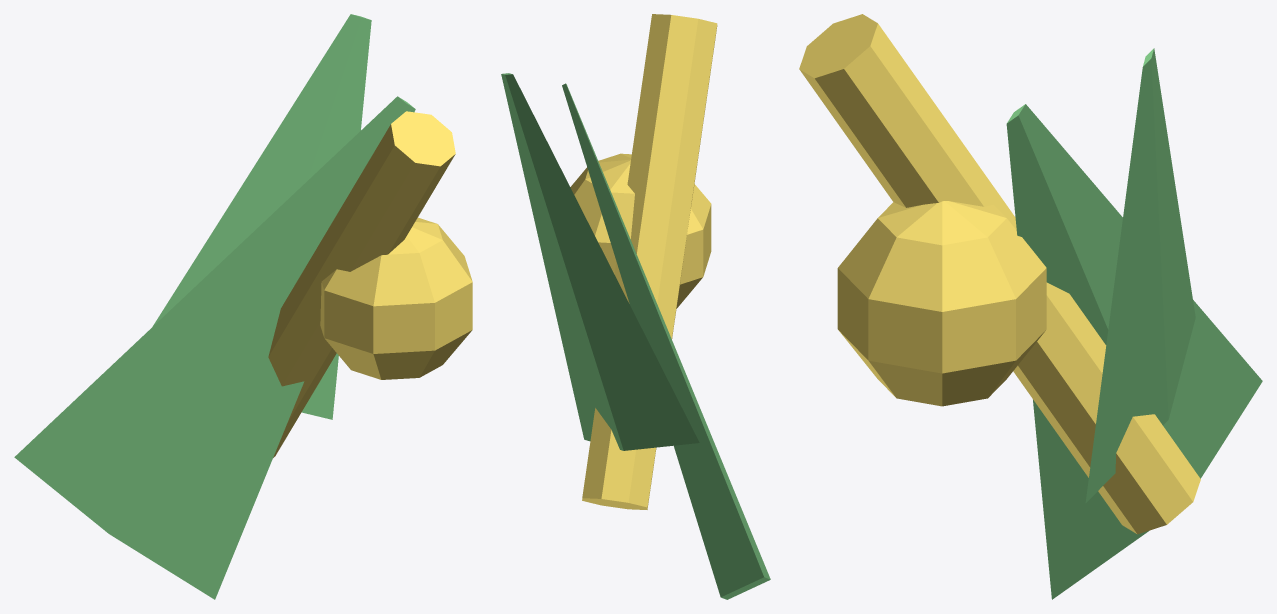
File: sig_panda.glb
The picture shows the model from 3 angles, left to right: view 1: azimuth 30°, elevation 25°; view 2: azimuth 150°, elevation 25°; view 3: azimuth 270°, elevation 25°; orthographic projection. The views are drawn at different scales.
Visible parts, largest first — view 1: Cone, Cylinder, Sphere, Cone.001; view 2: Cone.001, Cylinder, Cone, Sphere; view 3: Cylinder, Sphere, Cone, Cone.001.
Part boxes in pixels (box(x1,y1,x2,y2)): Cone: box(14, 96, 415, 599); Cylinder: box(268, 111, 455, 457); Sphere: box(320, 217, 472, 379); Cone.001: box(152, 14, 371, 419); Cone.001: box(501, 73, 699, 450); Cylinder: box(582, 14, 717, 509); Cone: box(562, 83, 770, 599); Sphere: box(570, 153, 711, 308); Cylinder: box(799, 14, 1200, 534); Sphere: box(837, 201, 1046, 406); Cone: box(1006, 104, 1262, 599); Cone.001: box(1085, 48, 1195, 502).
Bounding box in the file's own units: 0.1678 × 0.2529 × 0.1604.
